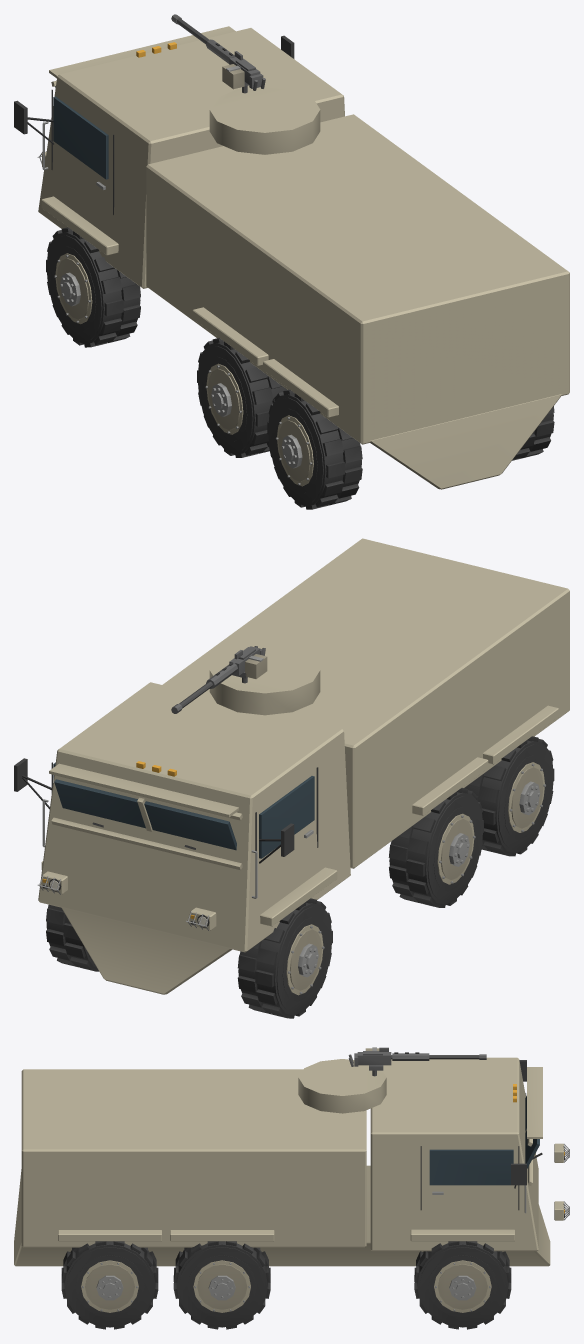
The model's file is rus_mrap_tyk.glb.
3 renders of one model, top to bottom at view 1: azimuth 30°, elevation 25°; view 2: azimuth 150°, elevation 25°; view 3: azimuth 270°, elevation 25°, orthographic. The views are drawn at different scales.
Visible parts, largest first — view 1: body, wheel_4, wheel_0, wheel_2, turret, barrel, wheel_5; view 2: body, wheel_2, wheel_0, wheel_4, turret, wheel_1, barrel; view 3: body, wheel_5, wheel_3, wheel_1, turret, barrel.
Part boxes in pixels (<box>): body: <box>14,26,569,489</box>; wheel_4: <box>267,389,362,509</box>; wheel_0: <box>46,227,140,347</box>; wheel_2: <box>197,338,286,457</box>; turret: <box>209,86,320,154</box>; barrel: <box>171,14,265,93</box>; wheel_5: <box>512,406,554,460</box>; body: <box>14,538,569,994</box>; wheel_2: <box>388,788,483,907</box>; wheel_0: <box>237,898,332,1018</box>; wheel_4: <box>464,736,554,856</box>; turret: <box>209,646,320,715</box>; wheel_1: <box>46,904,98,971</box>; barrel: <box>171,646,267,713</box>; body: <box>14,1057,569,1266</box>; wheel_5: <box>61,1241,158,1329</box>; wheel_3: <box>173,1241,270,1329</box>; wheel_1: <box>414,1241,511,1329</box>; turret: <box>298,1059,386,1113</box>; barrel: <box>348,1047,486,1076</box>.
Size of the model in its own units: 3.1 by 3.27 by 6.93.
